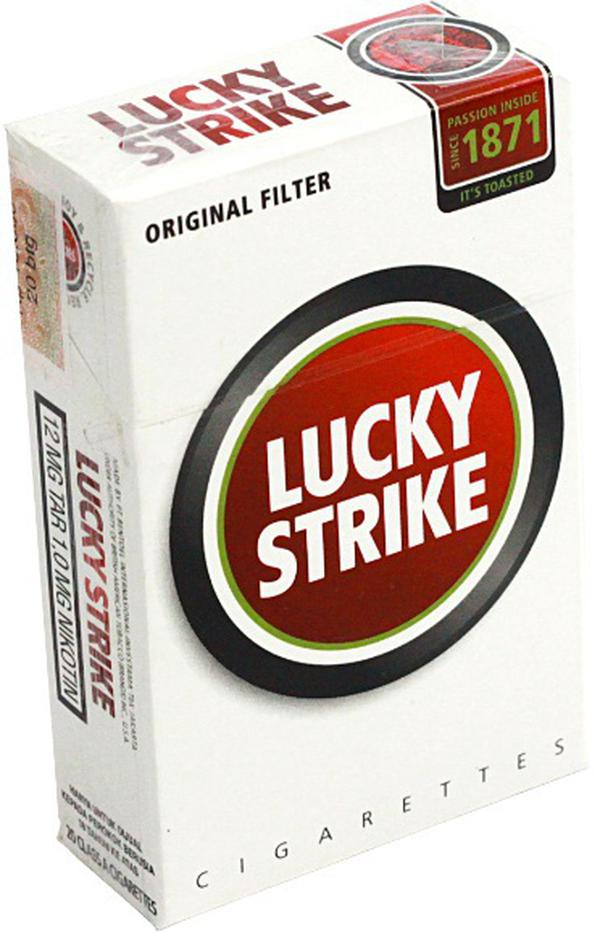lucky_strike_red: (129, 91, 561, 802)
